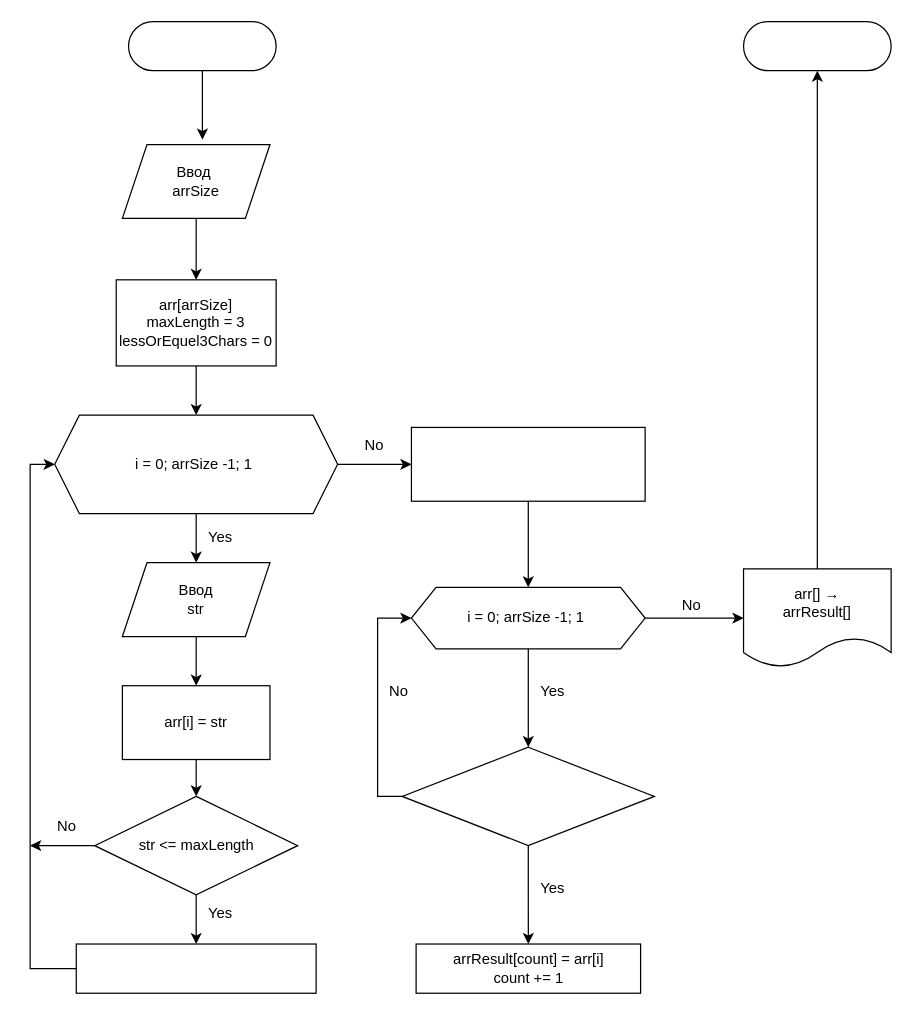
This 913x1015 diagram has some shape labels left out. Each missing label, with the centre of its shape:
arr[i] <= maxLength: (x=527, y=796)
arrResult[lessOrEquel3Chars] count = 0: (x=527, y=463)
lessOrEquel3Chars += 1: (x=195, y=968)
Старт: (x=201, y=45)
Финиш: (x=816, y=45)
